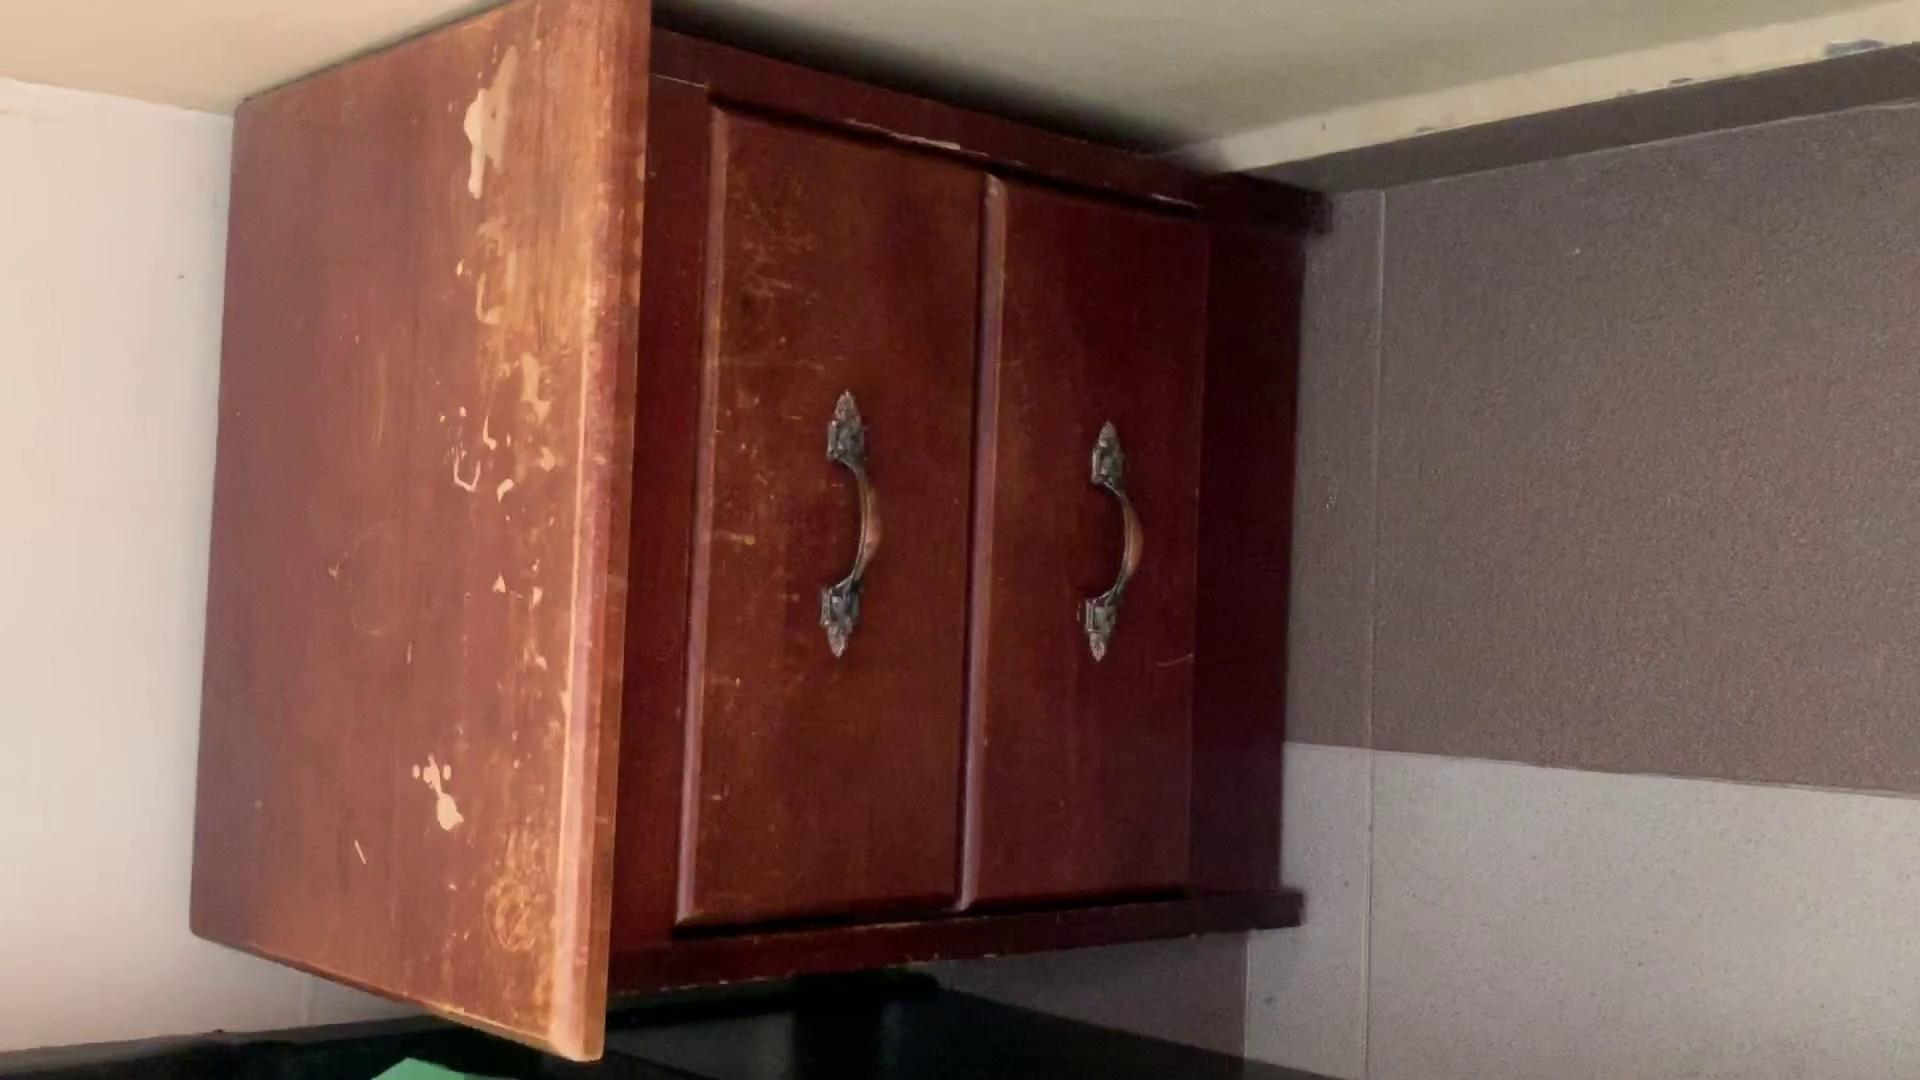cabinet_door: (671, 127, 972, 949), (1019, 219, 1225, 927)
handle: (808, 390, 901, 651), (1068, 419, 1153, 658)
